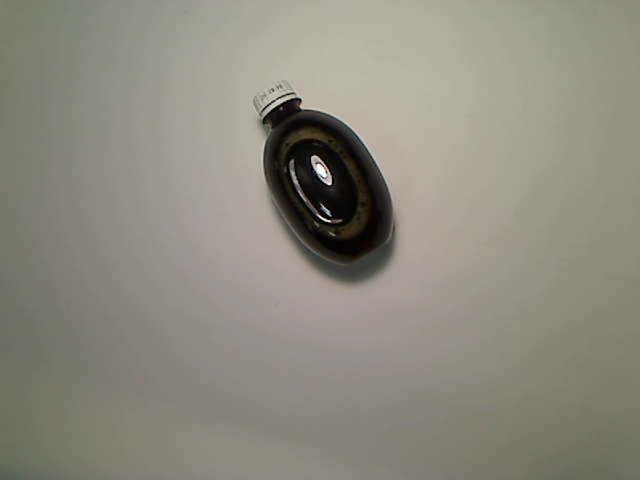plast_bottle: (251, 77, 397, 270)
